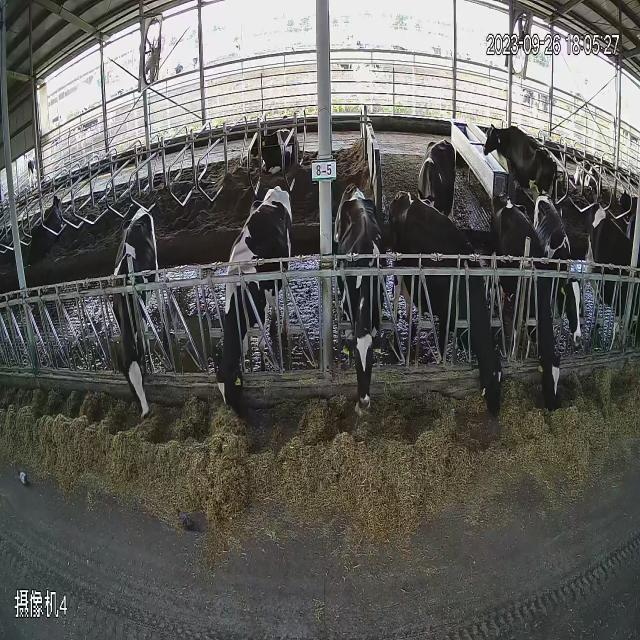drinking: (474, 108, 572, 204)
feeding: (394, 175, 512, 520), (82, 183, 191, 520), (331, 160, 423, 554), (212, 167, 308, 519), (478, 176, 586, 436)
lying down: (244, 98, 314, 204), (15, 166, 70, 285)
standing: (591, 185, 640, 360), (416, 116, 468, 228)
